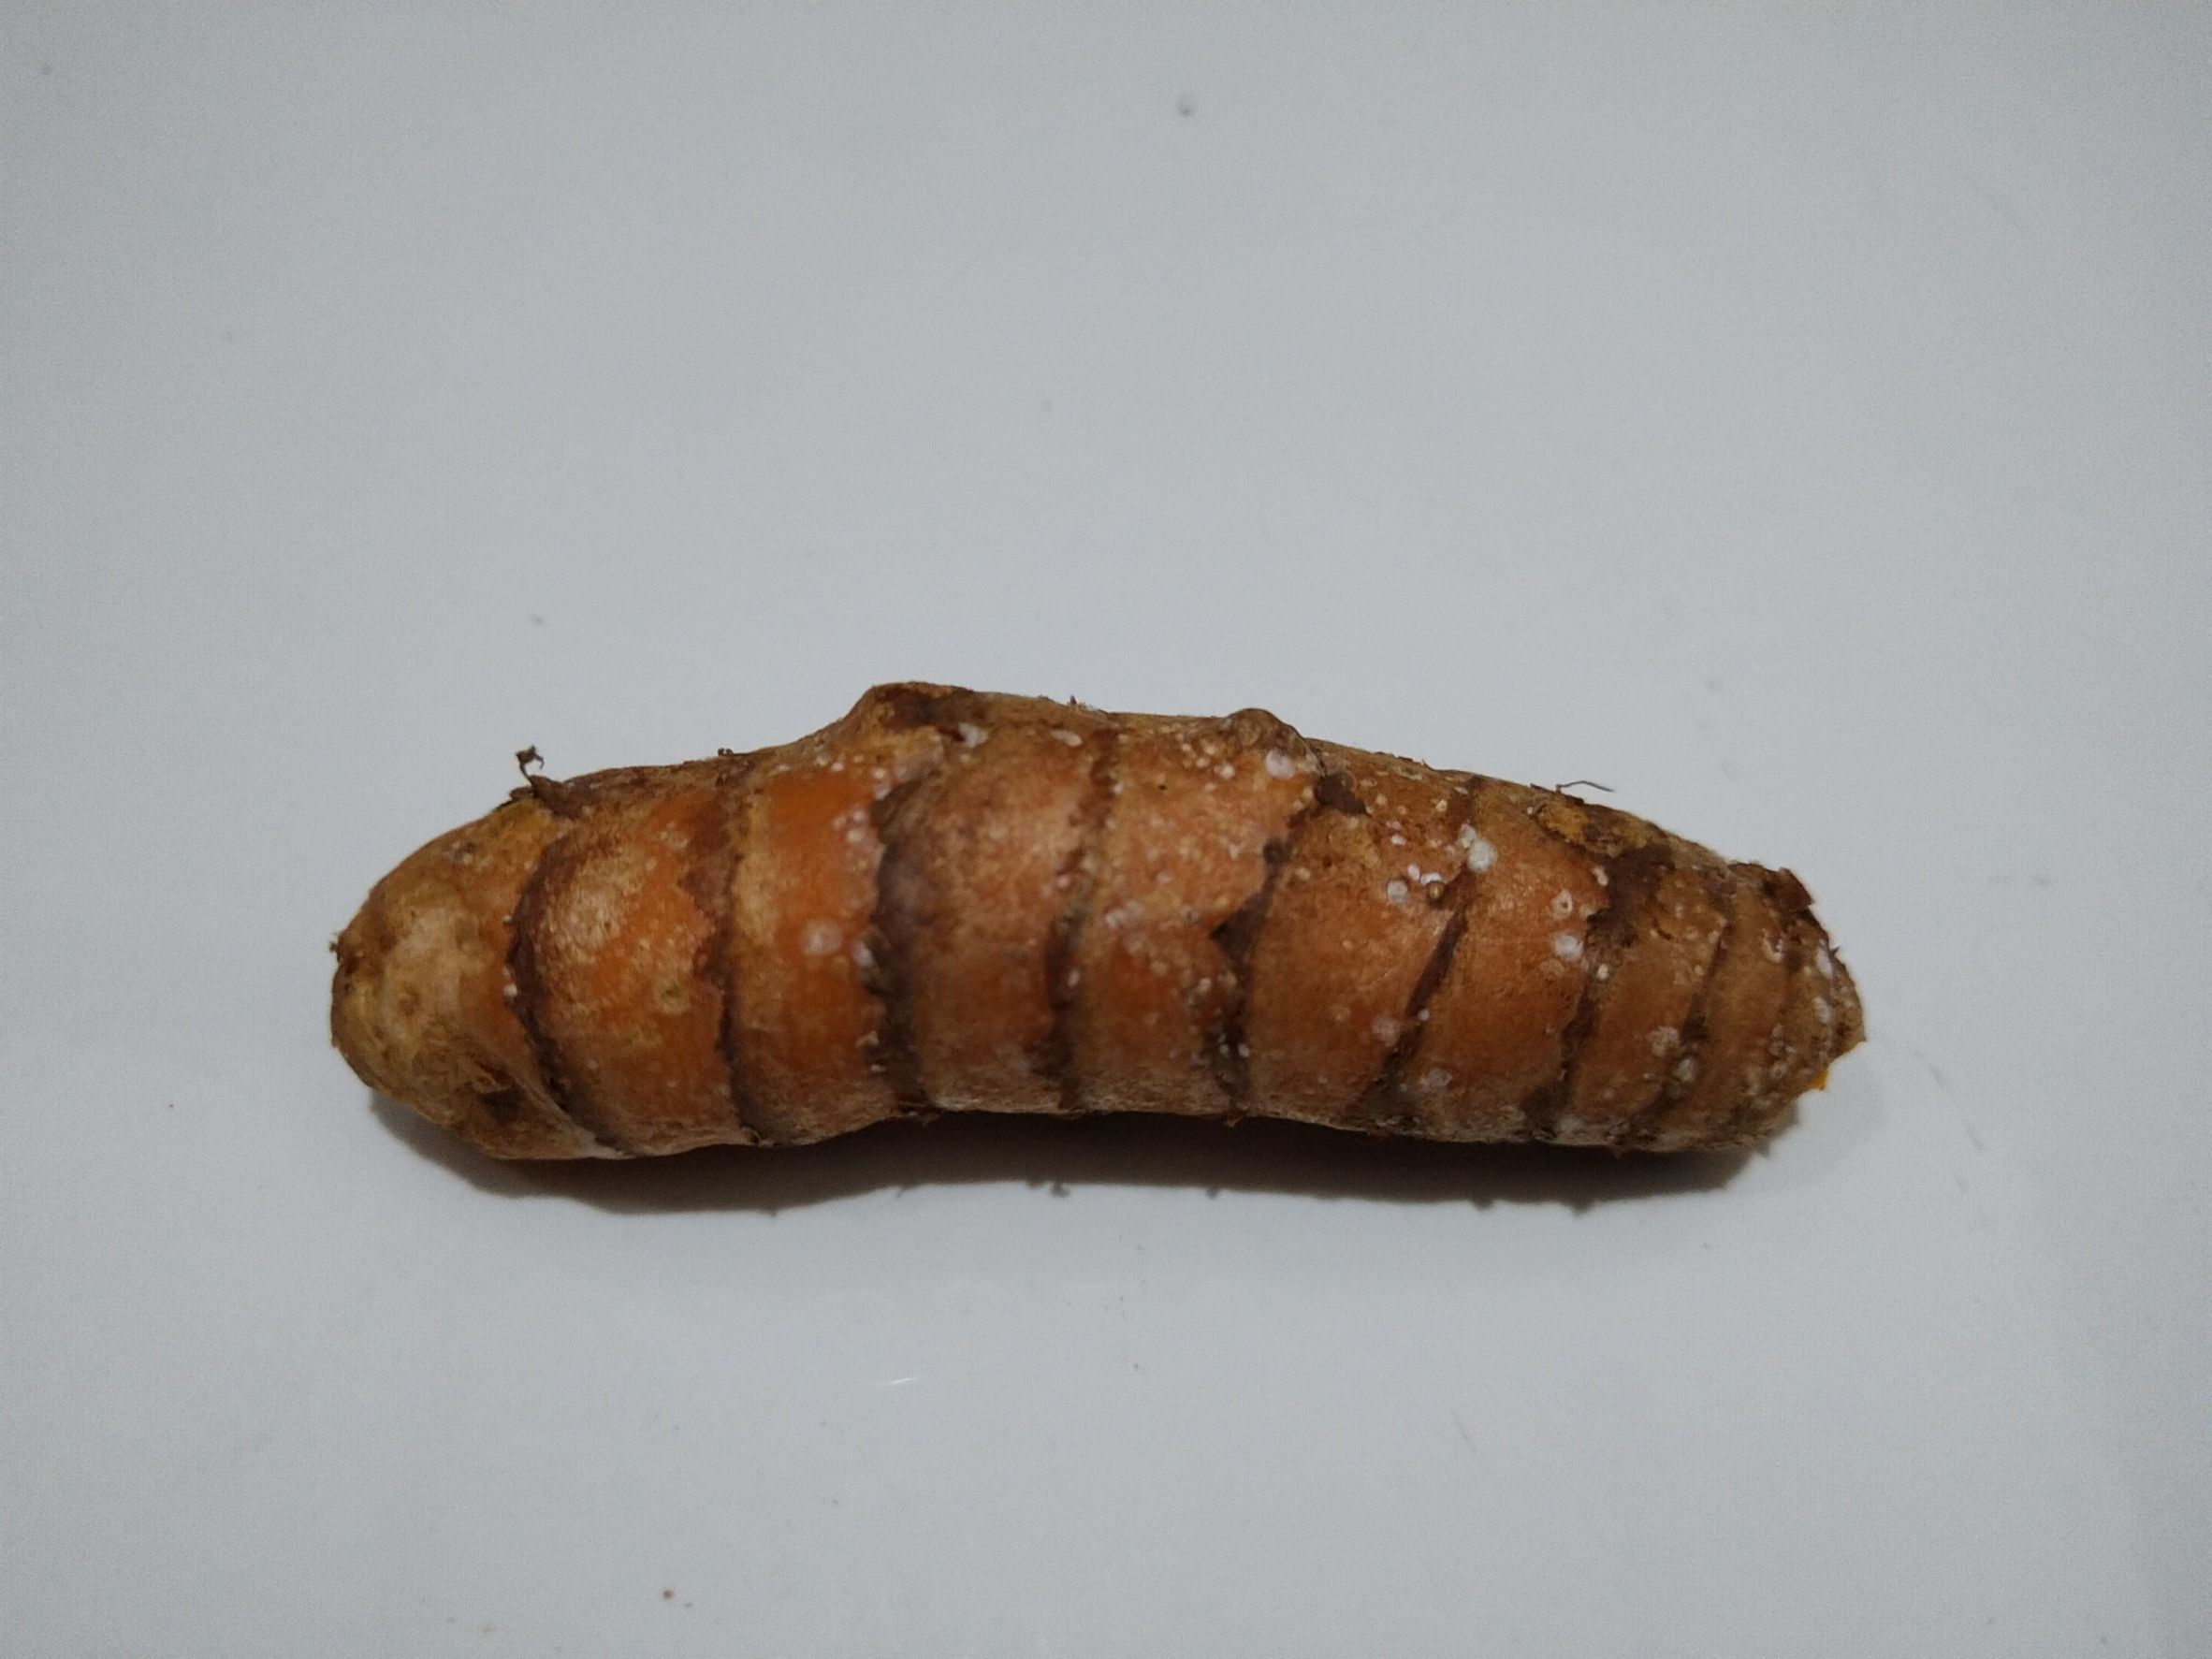Kunyit: (341, 702, 1862, 1229)
